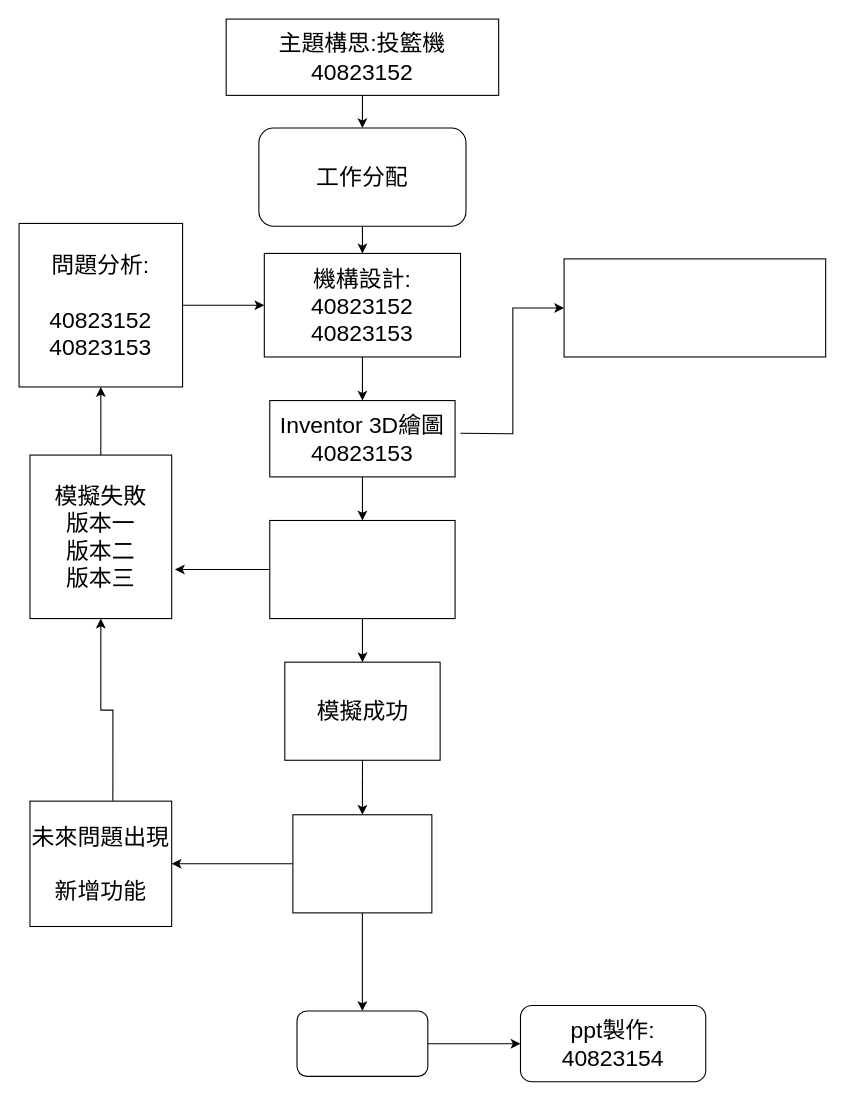
Image size: 845x1101. Some labels were removed from this diagram. The box of each missing label's shape, as (x1, y1, x2, y2) in pixels:
Autocad 2D 平面工程圖 40823154: (563, 258, 826, 357)
coppeliaSim模擬 4082315: (269, 519, 455, 619)
投籃機完成: (296, 1010, 428, 1076)
目標完成: (292, 814, 432, 913)
